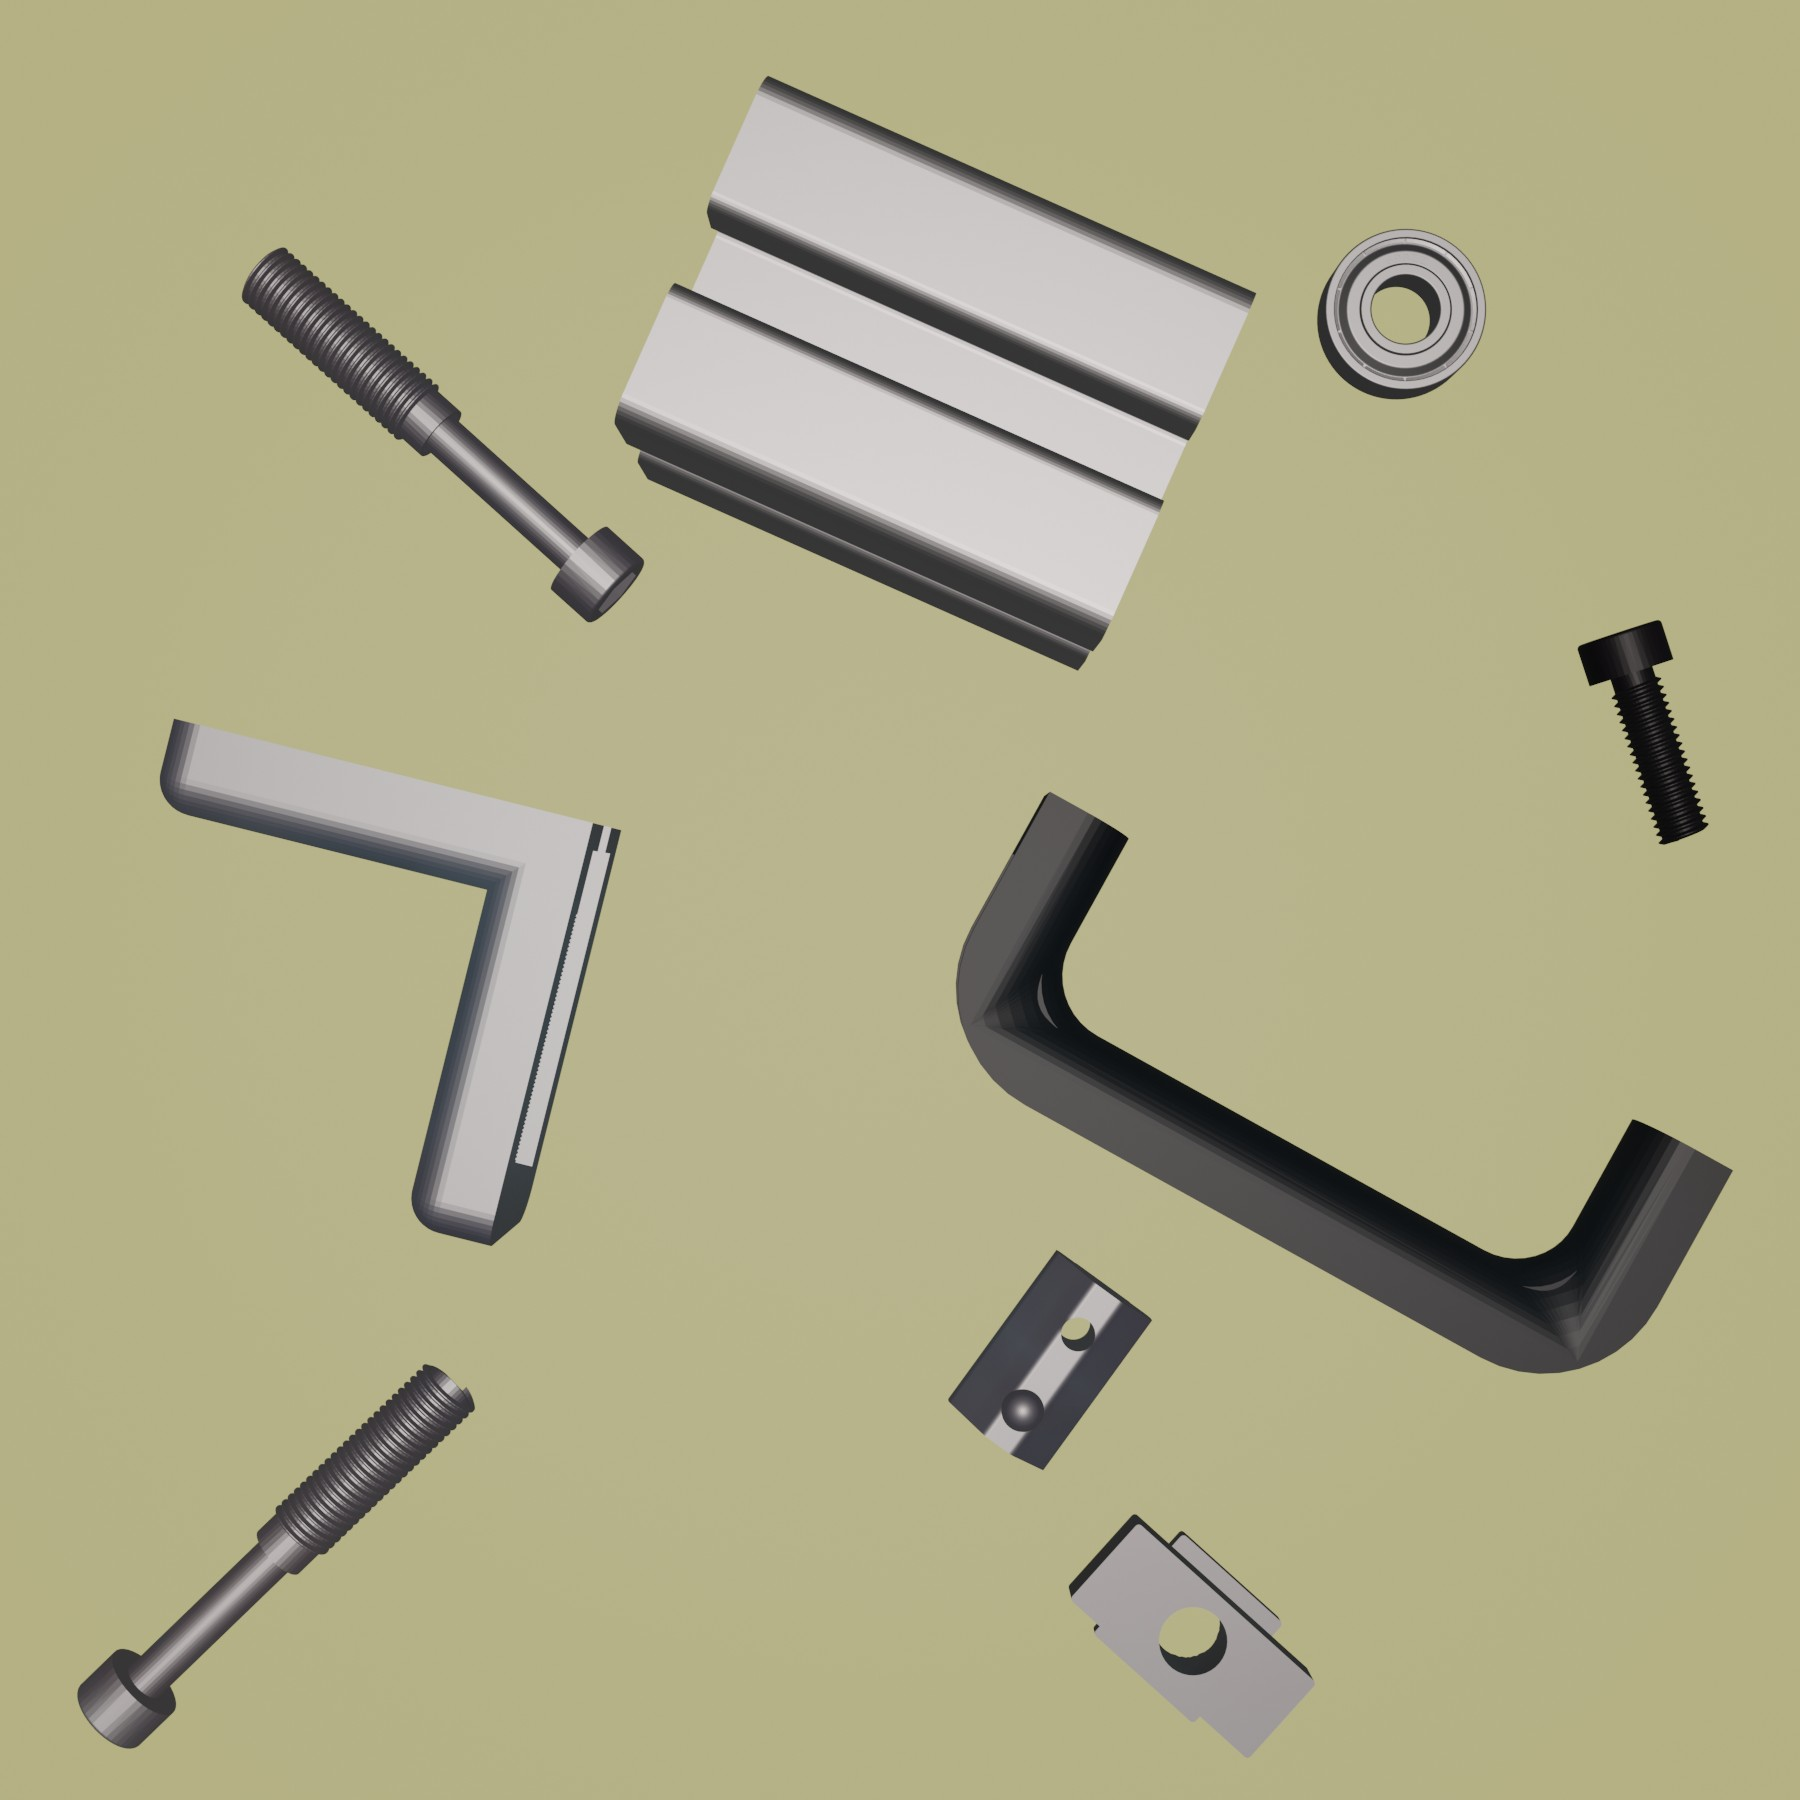Aluminium Extension: (612, 73, 1258, 673)
Ball Bearing: (1315, 226, 1488, 401)
Multiwinkel: (157, 714, 625, 1249)
Pull Handle: (954, 791, 1736, 1376)
Shoulder Socket Head Cap Screw: (76, 1363, 476, 1751), (237, 247, 645, 623)
Socket Head Cap Screw: (1577, 620, 1709, 846)
T Nut Square: (1065, 1513, 1319, 1764)
T Spring Nut: (946, 1245, 1154, 1472)
